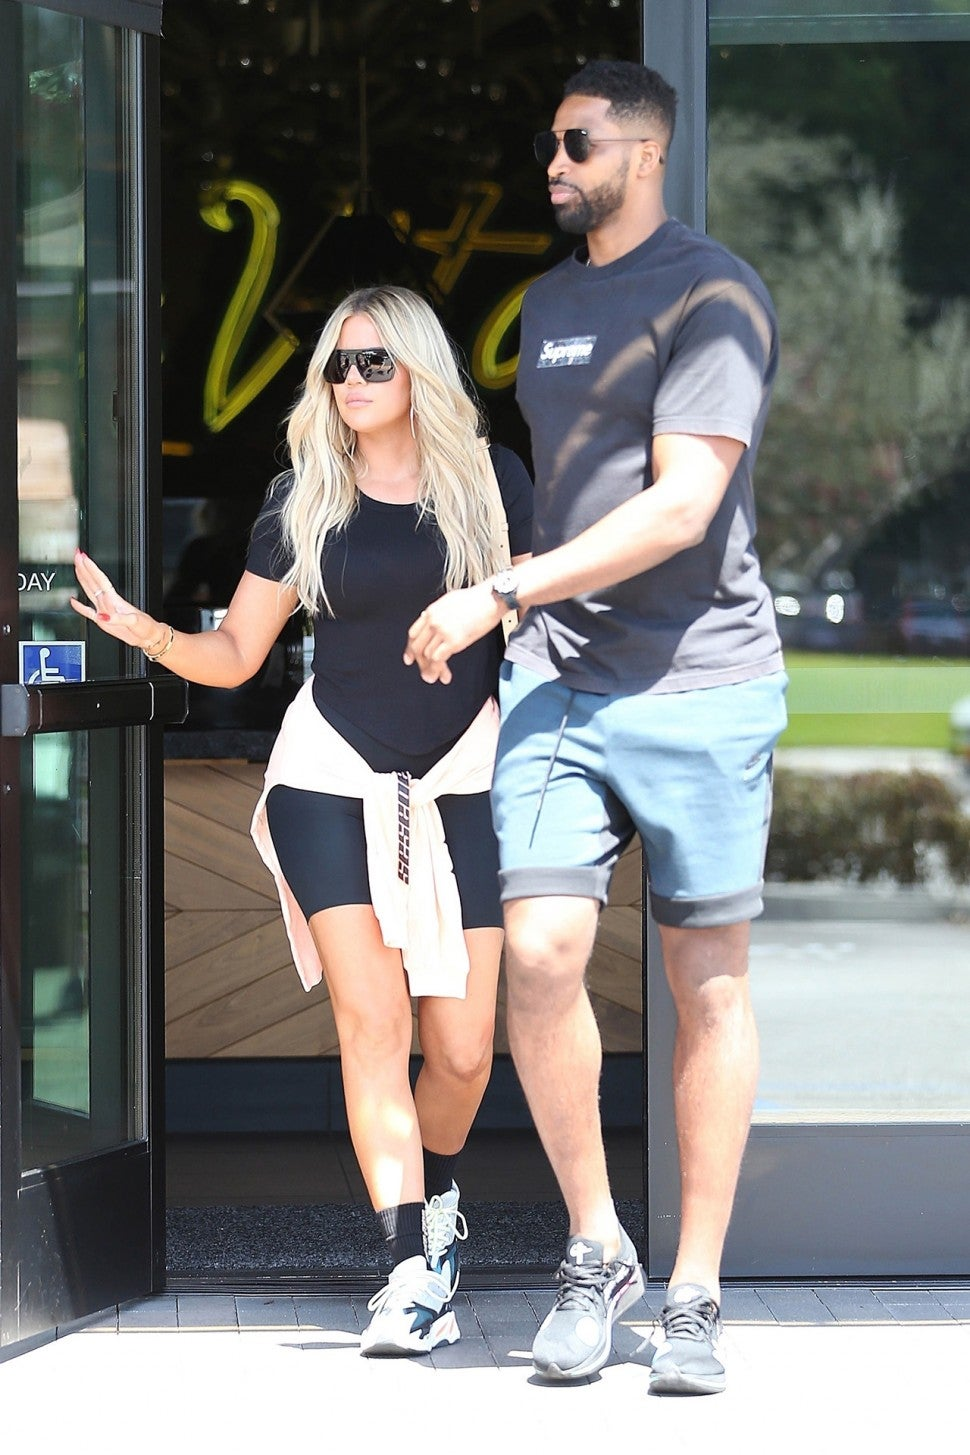Person: (65, 270, 503, 1360), (513, 104, 784, 1394)
